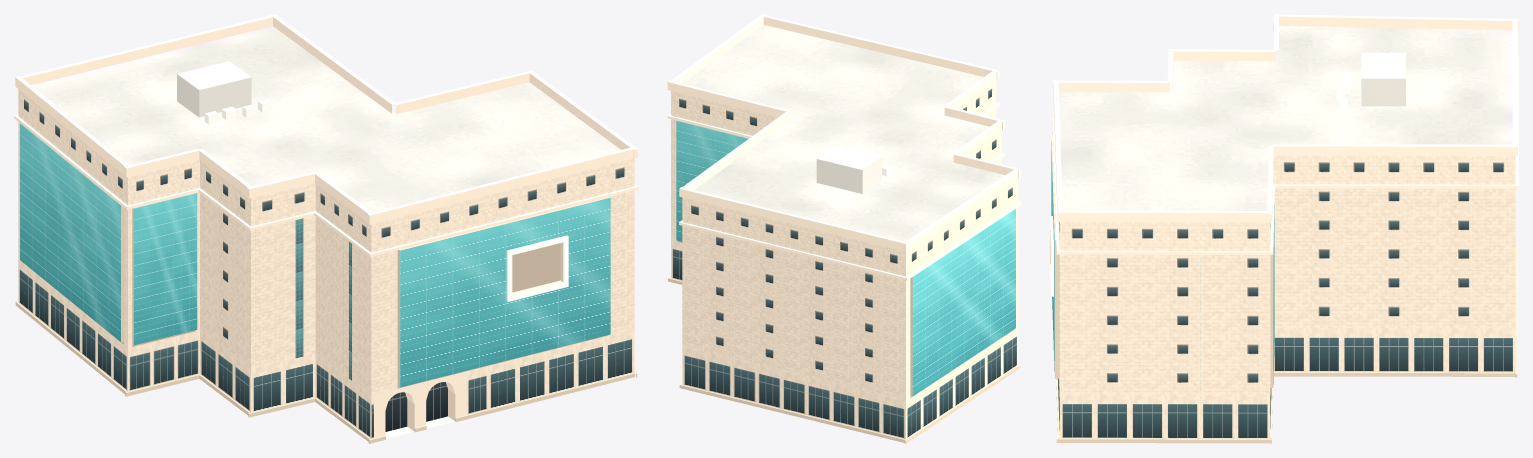
File: bricm.glb
The picture shows the model from 3 angles, left to right: view 1: azimuth 30°, elevation 25°; view 2: azimuth 150°, elevation 25°; view 3: azimuth 270°, elevation 25°; orthographic projection. The views are drawn at different scales.
Parts seen in each view (by area): view 1: BRICM; view 2: BRICM; view 3: BRICM.
Part boxes in pixels (box(x1,y1,x2,y2)): BRICM: box(14, 14, 638, 443); BRICM: box(667, 14, 1021, 443); BRICM: box(1050, 14, 1518, 443).
Bounding box in the file's own units: 46.44 × 27 × 46.12.
Materials: 1 (1 with a texture image).
